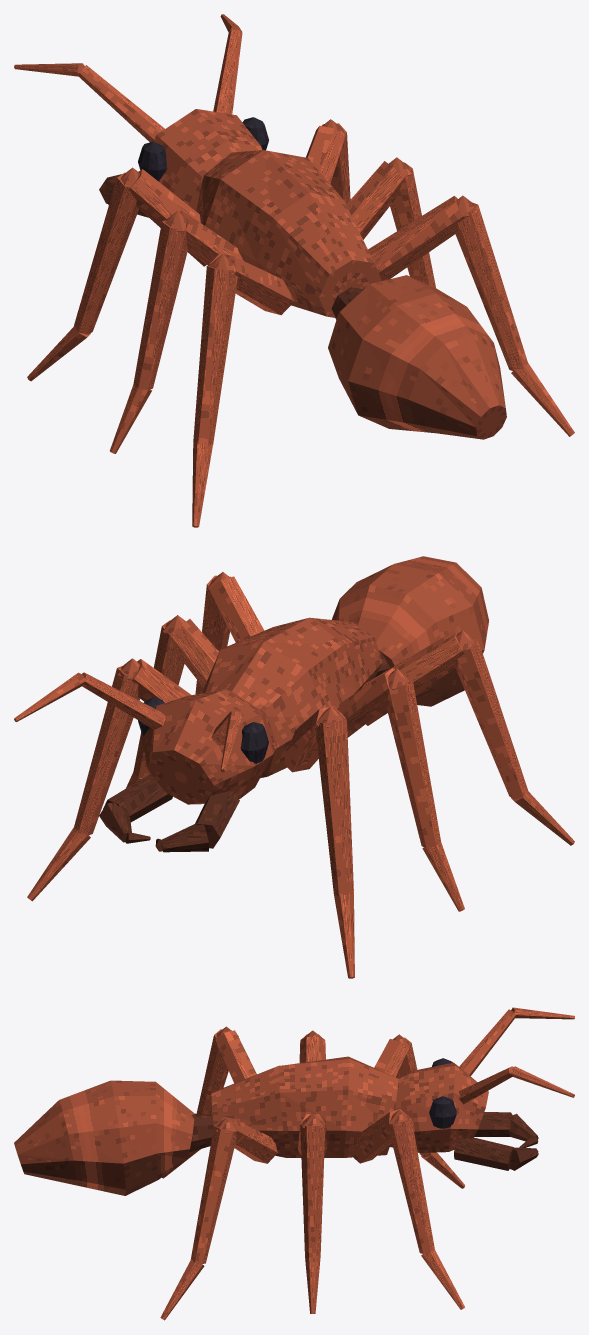
The model's file is mon_ant_small.glb.
3 renders of one model, top to bottom at view 1: azimuth 30°, elevation 25°; view 2: azimuth 150°, elevation 25°; view 3: azimuth 270°, elevation 25°, orthographic. The views are drawn at different scales.
Parts seen in each view (by area): view 1: closed_body; view 2: closed_body; view 3: closed_body.
Part boxes in pixels (x1,y1,x2,y2): closed_body: (14,14,574,527); closed_body: (14,556,574,978); closed_body: (14,1007,574,1320).
Bounding box in the file's own units: 0.9887 × 0.6731 × 1.62.
Materials: 1 (1 with a texture image).
